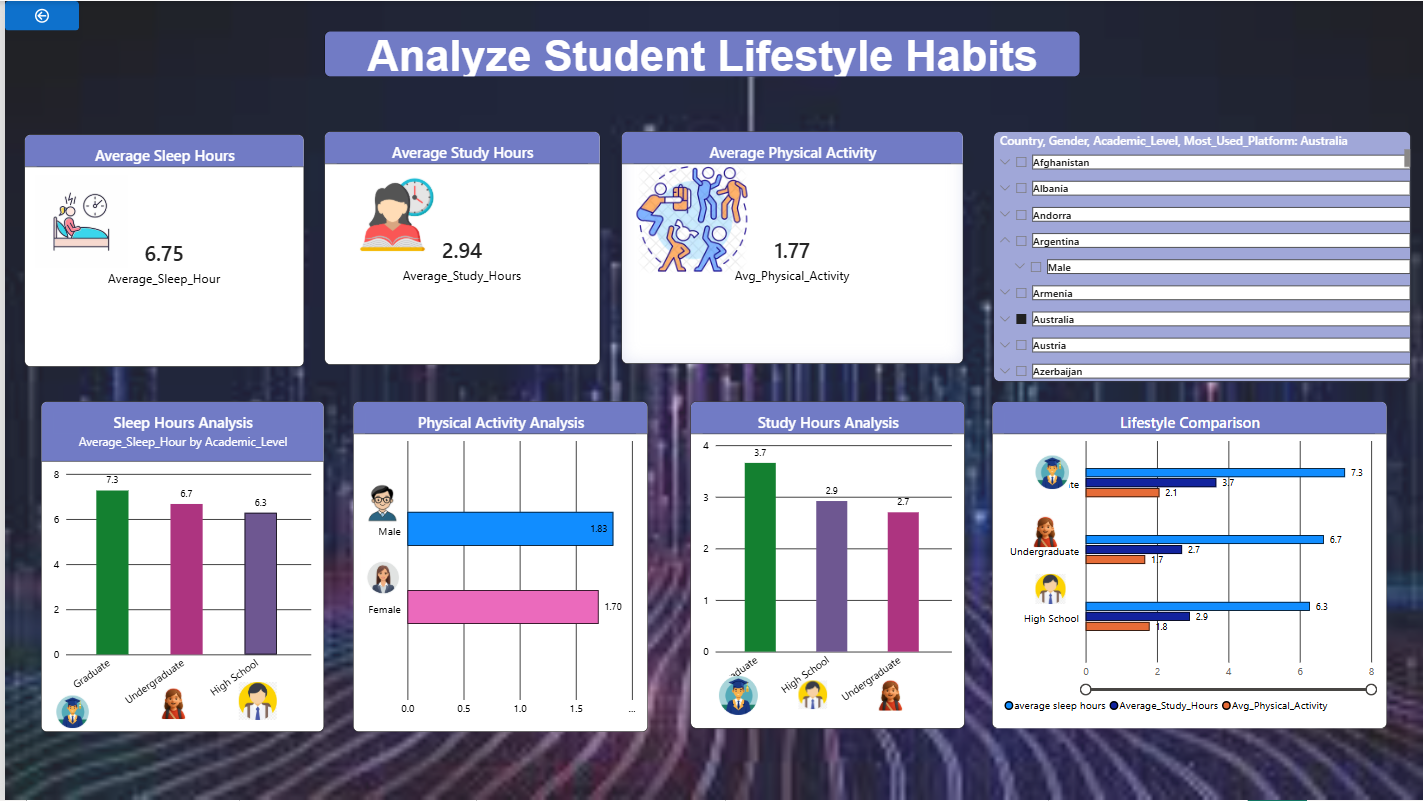

This screenshot's page, from the dashboard's own definition file:
{"tool":"powerbi","page":{"name":"Analyze Student Lifestyle Habits","canvas":[1920,1080],"ordinal":3},"visuals":[{"type":"card","title":"Average Sleep Hours","fields":{"Values":["Student Social Media And Mental Health Impact.Average_Sleep_Hour"]},"box":[25.5,181,378,314],"z":0,"group":"g4"},{"type":"clusteredColumnChart","title":"Sleep Hours Analysis","fields":{"Category":["Student Social Media And Mental Health Impact.Academic_Level"],"Y":["Student Social Media And Mental Health Impact.Average_Sleep_Hour"]},"box":[48.6,540.8,382.8,446.6],"z":0},{"type":"group","id":"g1","title":"Group 1","box":[470.2,541,398.5,446.5],"z":0,"group":"g2"},{"type":"card","title":"Average Study Hours","fields":{"Values":["Student Social Media And Mental Health Impact.Average_Study_Hours"]},"box":[431.7,176.2,372.5,315],"z":1000,"group":"g3"},{"type":"clusteredColumnChart","title":"Study Hours Analysis","fields":{"Category":["Student Social Media And Mental Health Impact.Academic_Level"],"Y":["Student Social Media And Mental Health Impact.Average_Study_Hours"]},"box":[926.1,541,370.9,441.8],"z":1000},{"type":"image","box":[479.9,733.6,61.3,90.6],"z":1000,"group":"g2"},{"type":"card","title":"Average Physical Activity","fields":{"Values":["Student Social Media And Mental Health Impact.Avg_Physical_Activity"]},"box":[833.3,177.4,462,314],"z":2000,"group":"g5"},{"type":"clusteredBarChart","title":"Lifestyle Comparison","fields":{"Category":["Student Social Media And Mental Health Impact.Academic_Level"],"Y":["Student Social Media And Mental Health Impact.average sleep hours","Student Social Media And Mental Health Impact.Average_Study_Hours","Student Social Media And Mental Health Impact.Avg_Physical_Activity"]},"box":[1334.9,541,534,441.8],"z":2000},{"type":"slicer","fields":{"Values":["Student Social Media And Mental Health Impact.Country","Student Social Media And Mental Health Impact.Gender","Student Social Media And Mental Health Impact.Academic_Level","Student Social Media And Mental Health Impact.Most_Used_Platform"]},"box":[1335.7,176.2,564.3,338.1],"z":3000},{"type":"textbox","title":"Analyze Student Lifestyle Habits","box":[431,40.5,1021.4,61.9],"z":4000},{"type":"clusteredBarChart","title":"Physical Activity Analysis","fields":{"Category":["Student Social Media And Mental Health Impact.Gender"],"Y":["Student Social Media And Mental Health Impact.Avg_Physical_Activity"]},"box":[470.2,541,398.5,446.5],"z":4000,"group":"g1"},{"type":"group","id":"g2","title":"Group 2","box":[470.2,541,399.3,446.5],"z":5000},{"type":"group","id":"g3","title":"Group 3","box":[371.4,176.2,433.3,314.3],"z":6000},{"type":"group","id":"g4","title":"Group 4","box":[15.3,181,388.2,314],"z":7000},{"type":"group","id":"g5","title":"Group 5","box":[833.3,71.4,461.9,447.6],"z":8000},{"type":"image","box":[481.3,651.7,60.9,52.6],"z":9000,"group":"g1"},{"type":"image","box":[960,911.4,64.3,52.9],"z":9000},{"type":"image","box":[371.4,231.2,317.5,115],"z":9004,"group":"g3"},{"type":"image","box":[15.3,235.9,173.8,126.2],"z":9006,"group":"g4"},{"type":"image","box":[853.3,71.4,150,447.5],"z":9008,"group":"g5"},{"type":"image","box":[1072.9,917.1,38.6,42.9],"z":10000},{"type":"image","box":[1175.7,917.1,42.9,42.9],"z":11000},{"type":"image","box":[1392.9,769,40.5,52.4],"z":12000},{"type":"image","box":[1381,695.2,52.4,42.9],"z":13000},{"type":"image","box":[1392.9,614.3,45.2,45.2],"z":14000},{"type":"image","box":[48.6,938.6,85.7,44.3],"z":15000},{"type":"image","box":[295.7,921.4,91.4,51.4],"z":16000},{"type":"image","box":[207.1,924.3,42.9,48.6],"z":17000},{"type":"actionButton","box":[0,0,100,40],"z":18000}]}

Visuals, with their boxes in screenshot pixels (x1, y1, x2, y2), scaled from the page's 1920x1080 canvas onto the 1423x801 screenshot:
"Average Sleep Hours" card: {"left": 19, "top": 134, "right": 299, "bottom": 367}
"Sleep Hours Analysis" clusteredColumnChart: {"left": 36, "top": 401, "right": 320, "bottom": 732}
"Group 1" group: {"left": 348, "top": 401, "right": 644, "bottom": 732}
"Average Study Hours" card: {"left": 320, "top": 131, "right": 596, "bottom": 364}
"Study Hours Analysis" clusteredColumnChart: {"left": 686, "top": 401, "right": 961, "bottom": 729}
image: {"left": 356, "top": 544, "right": 401, "bottom": 611}
"Average Physical Activity" card: {"left": 618, "top": 132, "right": 960, "bottom": 364}
"Lifestyle Comparison" clusteredBarChart: {"left": 989, "top": 401, "right": 1385, "bottom": 729}
slicer - Student Social Media And Mental Health Impact.Country x Student Social Media And Mental Health Impact.Gender: {"left": 990, "top": 131, "right": 1408, "bottom": 381}
"Analyze Student Lifestyle Habits" textbox: {"left": 319, "top": 30, "right": 1076, "bottom": 76}
"Physical Activity Analysis" clusteredBarChart: {"left": 348, "top": 401, "right": 644, "bottom": 732}
"Group 2" group: {"left": 348, "top": 401, "right": 644, "bottom": 732}
"Group 3" group: {"left": 275, "top": 131, "right": 596, "bottom": 364}
"Group 4" group: {"left": 11, "top": 134, "right": 299, "bottom": 367}
"Group 5" group: {"left": 618, "top": 53, "right": 960, "bottom": 385}
image: {"left": 357, "top": 483, "right": 402, "bottom": 522}
image: {"left": 712, "top": 676, "right": 759, "bottom": 715}
image: {"left": 275, "top": 171, "right": 511, "bottom": 257}
image: {"left": 11, "top": 175, "right": 140, "bottom": 269}
image: {"left": 632, "top": 53, "right": 744, "bottom": 385}
image: {"left": 795, "top": 680, "right": 824, "bottom": 712}
image: {"left": 871, "top": 680, "right": 903, "bottom": 712}
image: {"left": 1032, "top": 570, "right": 1062, "bottom": 609}
image: {"left": 1024, "top": 516, "right": 1062, "bottom": 547}
image: {"left": 1032, "top": 456, "right": 1066, "bottom": 489}
image: {"left": 36, "top": 696, "right": 100, "bottom": 729}
image: {"left": 219, "top": 683, "right": 287, "bottom": 721}
image: {"left": 153, "top": 686, "right": 185, "bottom": 722}
actionButton: {"left": 0, "top": 0, "right": 74, "bottom": 30}
